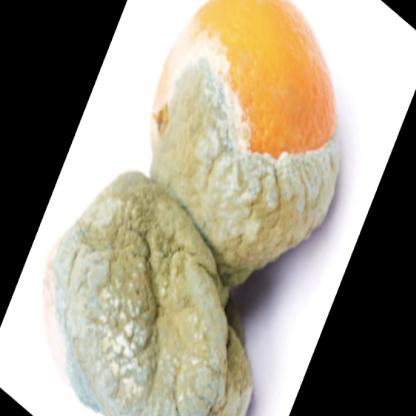rotten: (46, 1, 341, 416)
